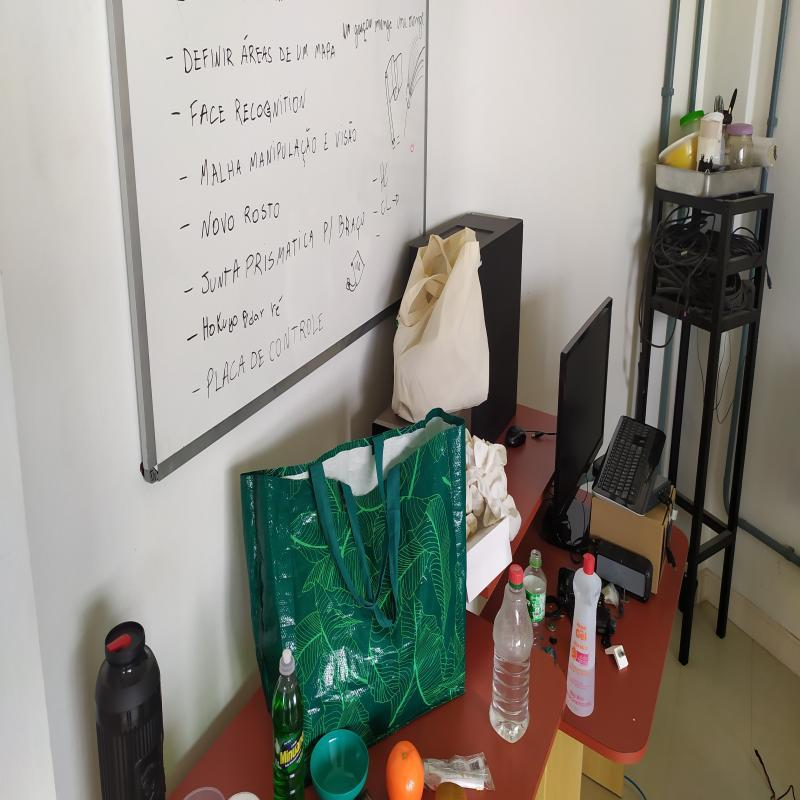Bag: (241, 403, 469, 781), (392, 221, 494, 419)
Bowl: (309, 728, 370, 796)
Cleaner: (268, 650, 310, 800)
Orange: (385, 739, 424, 799)
